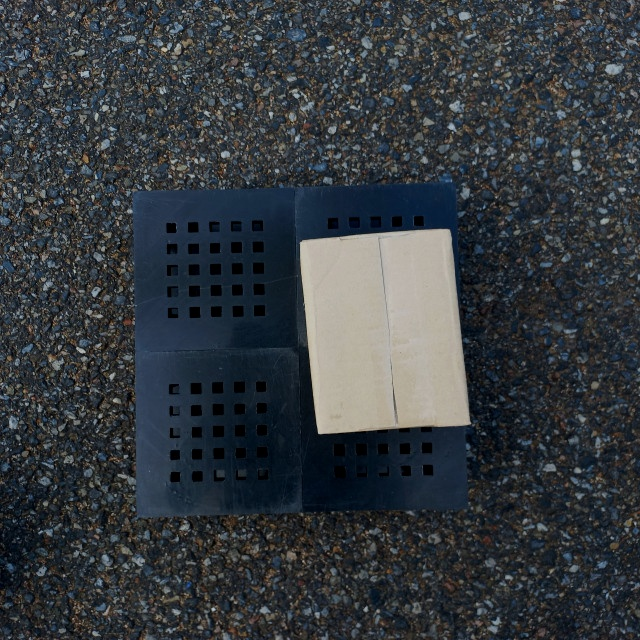box: (298, 225, 474, 436)
pallet: (127, 180, 486, 516)
